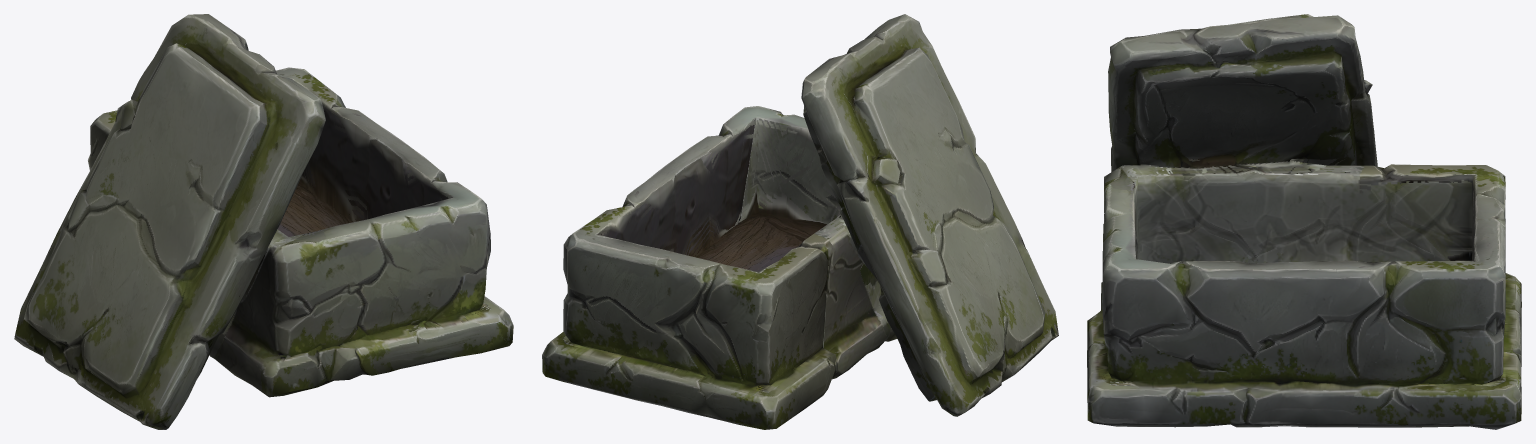
File: Prop_TombOpen.fbx
3 renders of one model, left to right at view 1: azimuth 30°, elevation 25°; view 2: azimuth 150°, elevation 25°; view 3: azimuth 270°, elevation 25°, orthographic. The views are drawn at different scales.
Visible parts, largest first — view 1: texture_mapping; view 2: texture_mapping; view 3: texture_mapping.
Boxes of the visible parts, bbox=[...] form: texture_mapping: bbox=[14, 14, 513, 429]; texture_mapping: bbox=[542, 14, 1058, 429]; texture_mapping: bbox=[1087, 14, 1521, 429].
Size of the model in its own units: 1 by 0.9843 by 0.8172.
Materials: 1 (1 with a texture image).
